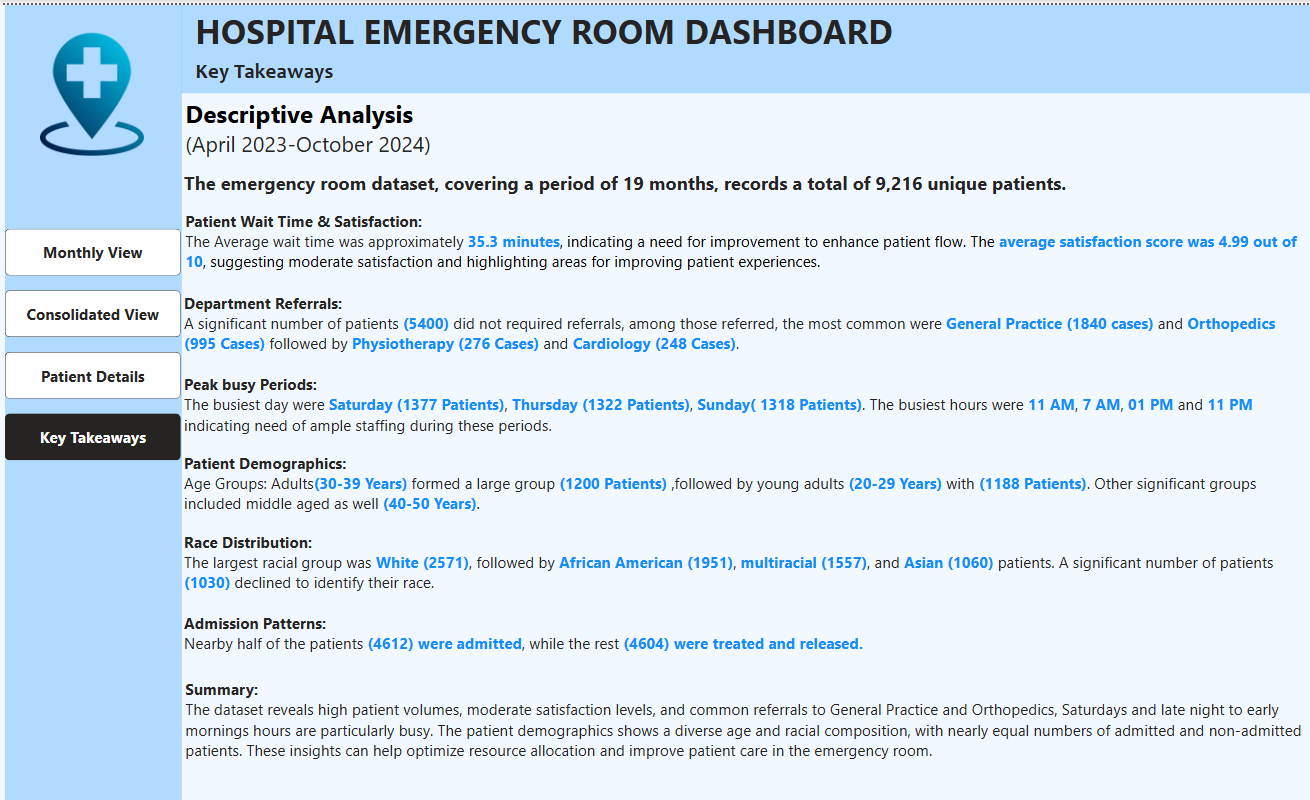

This screenshot's page, from the dashboard's own definition file:
{"tool":"powerbi","page":{"name":"Key Takeaways","canvas":[2300,1400],"ordinal":3},"visuals":[{"type":"shape","box":[9.5,0,310,1400.5],"z":0},{"type":"shape","box":[318.6,0,1980.6,155],"z":1000},{"type":"textbox","box":[337.6,0,1241.2,88],"z":2000},{"type":"textbox","box":[337,88.1,373.3,64.8],"z":3000},{"type":"image","box":[46.7,44.1,230.7,225.5],"z":4000},{"type":"pageNavigator","box":[7.8,391.5,308.5,407],"z":5000},{"type":"textbox","box":[320,155.6,539.1,129.3],"z":6000},{"type":"textbox","box":[317.8,284.9,1819,70.1],"z":7000},{"type":"textbox","box":[320,355,1979,118.3],"z":8000},{"type":"textbox","box":[317.8,499.7,1979,118.3],"z":9000},{"type":"textbox","box":[317.8,642.1,1979,118.3],"z":10000},{"type":"textbox","box":[317.8,780.2,1979,118.3],"z":11000},{"type":"textbox","box":[317.8,918.3,1979,118.3],"z":12000},{"type":"textbox","box":[317.8,1060.7,1979,87.7],"z":13000},{"type":"textbox","box":[320,1176.9,1979,170.9],"z":14000}]}

Visuals, with their boxes in screenshot pixels (x1, y1, x2, y2), scaled from the page's 2300x1400 canvas onto the 1310x800 screenshot:
shape: bbox=(5, 0, 182, 799)
shape: bbox=(181, 0, 1309, 89)
textbox: bbox=(192, 0, 899, 50)
textbox: bbox=(192, 50, 405, 87)
image: bbox=(27, 25, 158, 154)
pageNavigator: bbox=(4, 224, 180, 456)
textbox: bbox=(182, 89, 489, 163)
textbox: bbox=(181, 163, 1217, 203)
textbox: bbox=(182, 203, 1309, 270)
textbox: bbox=(181, 286, 1308, 353)
textbox: bbox=(181, 367, 1308, 435)
textbox: bbox=(181, 446, 1308, 513)
textbox: bbox=(181, 525, 1308, 592)
textbox: bbox=(181, 606, 1308, 656)
textbox: bbox=(182, 673, 1309, 770)
